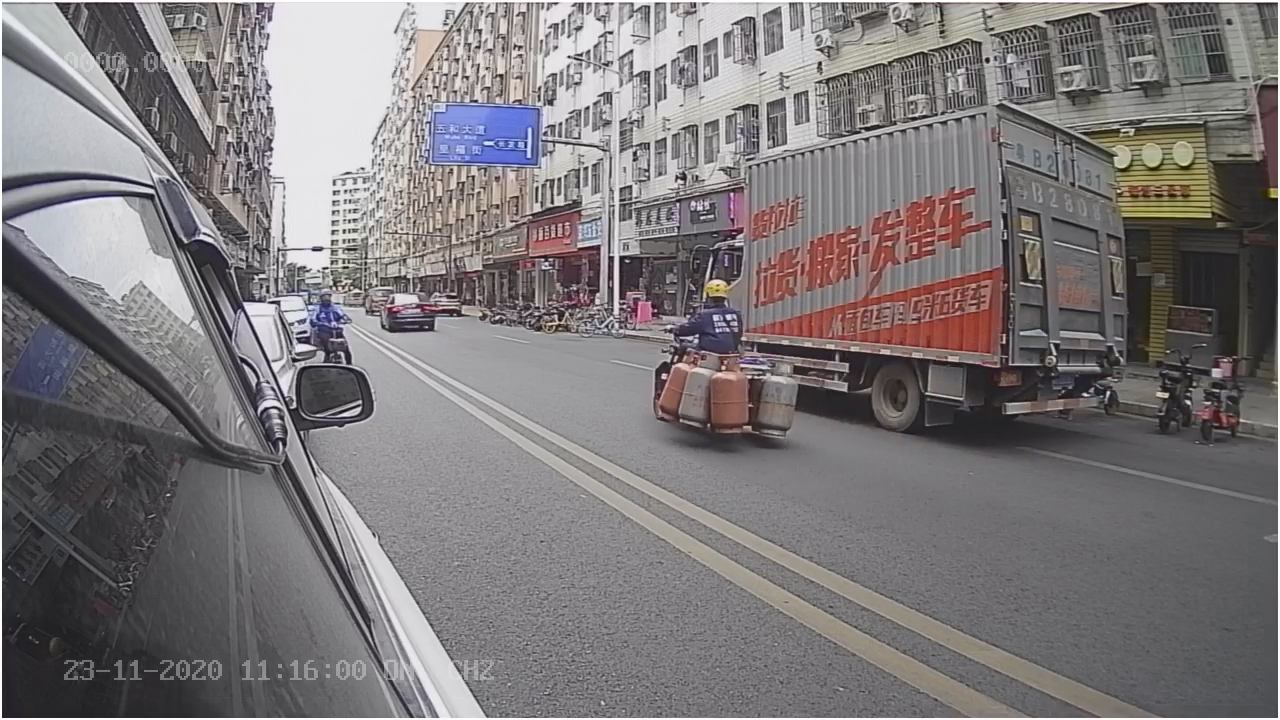person: (681, 275, 749, 349)
